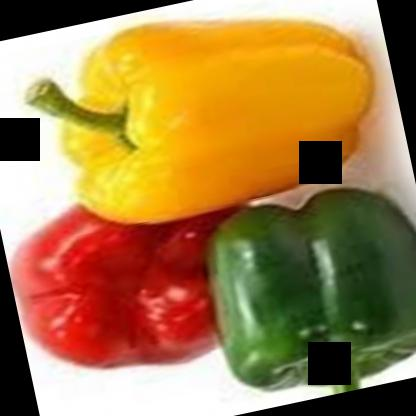bell pepper: (22, 0, 395, 241), (8, 182, 276, 394), (191, 168, 415, 415)
